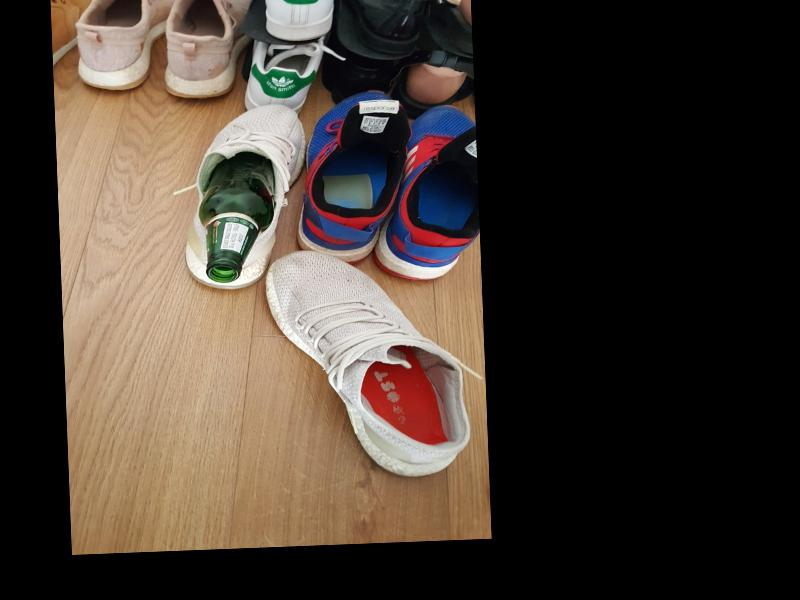Beer: (196, 152, 279, 284)
